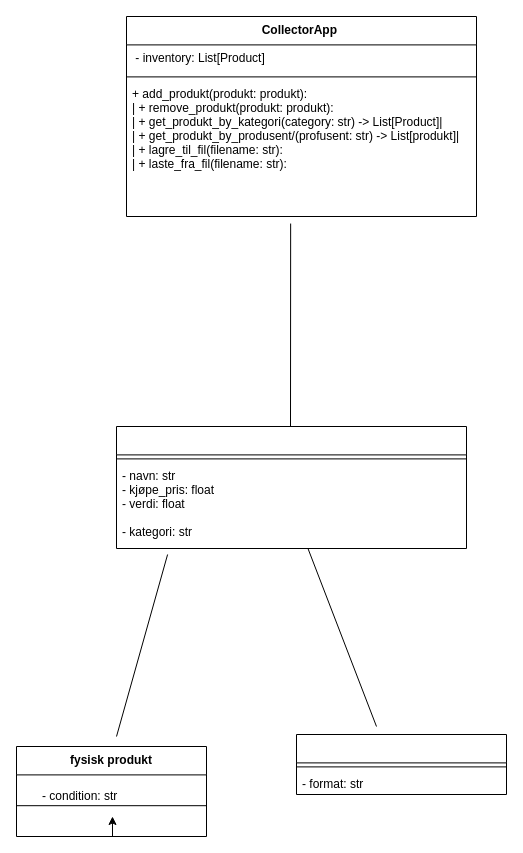
This 523x853 diagram has some shape labels left out. Each missing label, with the box of its shape:
Digital produkt: (296, 734, 506, 794)
Product: (116, 426, 466, 548)
